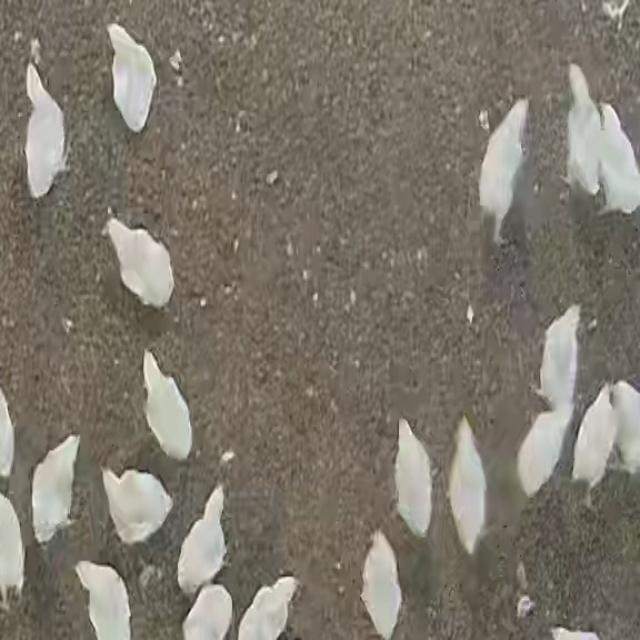chicken: (100, 214, 183, 317), (476, 95, 531, 248), (137, 346, 199, 463), (103, 18, 161, 138), (23, 62, 69, 200), (100, 463, 174, 548), (562, 60, 604, 202), (515, 404, 574, 503), (176, 484, 228, 595), (30, 434, 81, 544), (449, 420, 489, 557), (570, 384, 618, 497), (393, 416, 435, 542), (539, 304, 582, 413), (360, 530, 402, 640), (600, 104, 640, 216)
